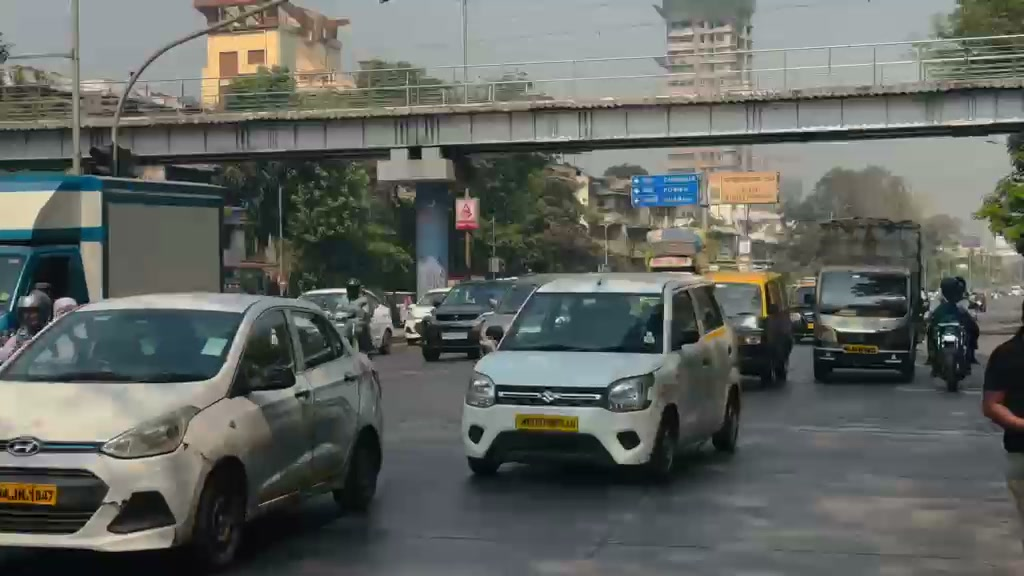bus: (1, 174, 227, 328)
car: (1, 290, 387, 567), (461, 273, 744, 480), (702, 268, 793, 386), (421, 279, 517, 362), (299, 288, 390, 356), (470, 278, 542, 355), (402, 288, 451, 341)
motorcycle: (929, 316, 975, 393)
pedestrian: (981, 314, 1024, 533), (924, 277, 980, 377), (0, 292, 53, 366), (53, 296, 80, 320)
truck: (808, 218, 925, 383), (702, 268, 794, 386)
